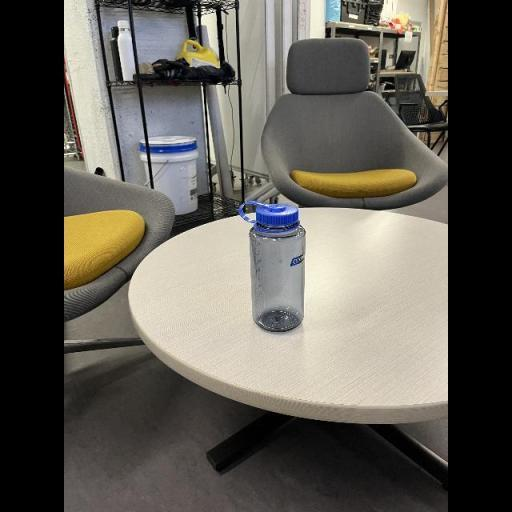bottle: (238, 201, 306, 333)
